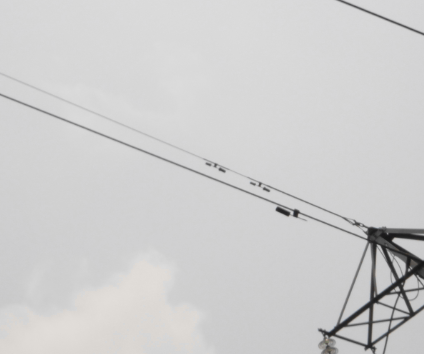damper: (203, 160, 227, 174), (248, 179, 271, 192)
damper_defect: (274, 204, 309, 222)
